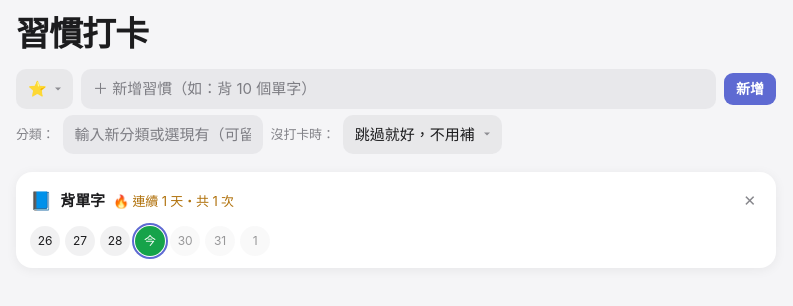
it: 習慣頁刪除習慣的確認／防重／寫入／刷新邊界 › 寫入失敗時顯示錯誤、不刷新、習慣仍在且可直接再刪一次
This screenshot has width=793, height=306.
Click the button "✕".
click(750, 201)  # box [737,184,762,218]
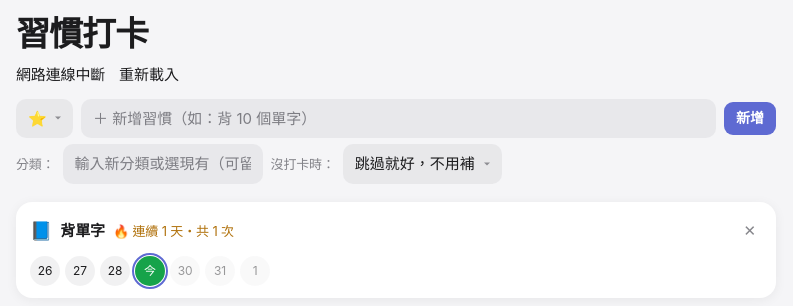
Expected: the text "背單字" is shown, [60,220,105,242]
Now the message shows "網路連線中斷", box [16,65,105,84]
Click the button "✕".
click(750, 231)  # box [737,214,762,248]
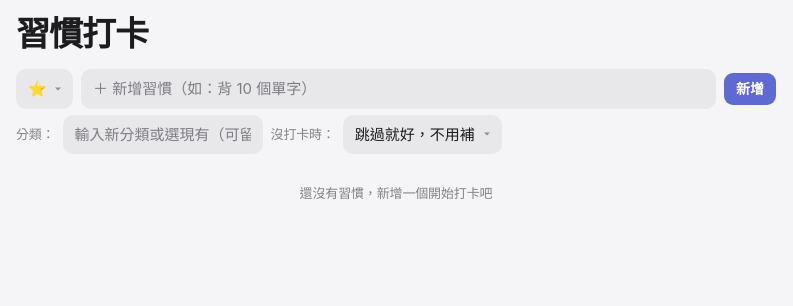
Now the message "網路連線中斷 重新載入" is gone
